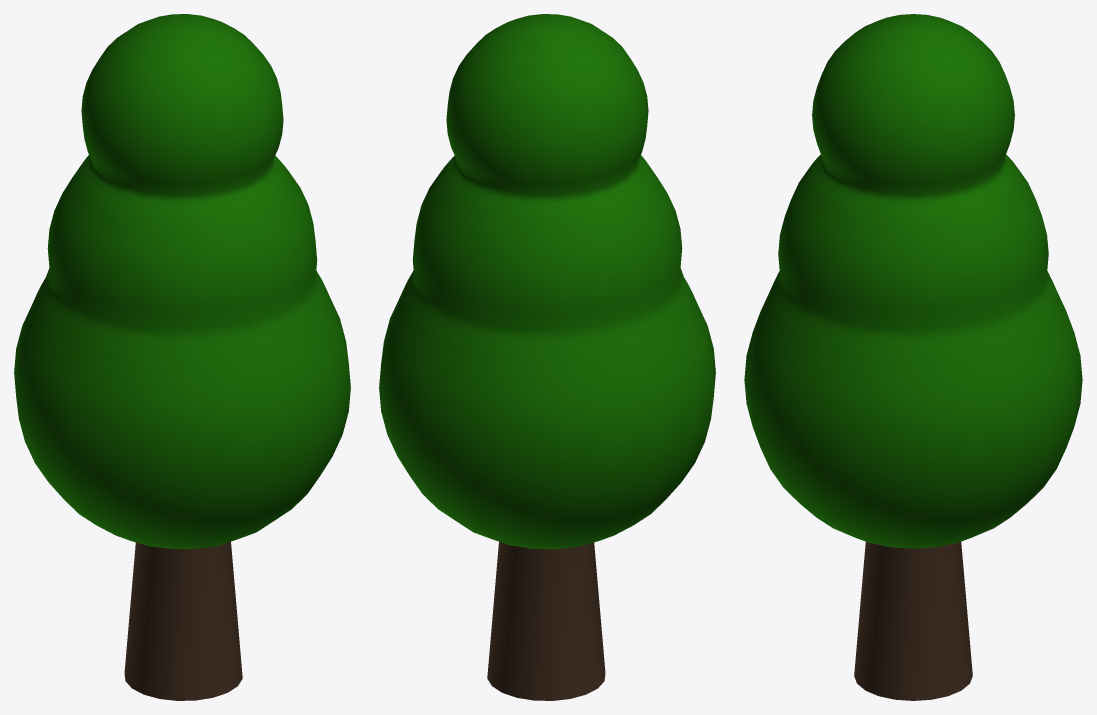
Rendered from Arbol 1.fbx.
3 views of the same model, side by side, from view 1: azimuth 30°, elevation 25°; view 2: azimuth 150°, elevation 25°; view 3: azimuth 270°, elevation 25° (orthographic).
Parts seen in each view (by area): view 1: Arbol_2; view 2: Arbol_2; view 3: Arbol_2.
Part boxes in pixels (x1,y1,x2,y2): Arbol_2: [14, 14, 350, 700]; Arbol_2: [379, 14, 715, 700]; Arbol_2: [744, 14, 1082, 700].
Bounding box in the file's own units: 10.44 × 22.2 × 10.44.
